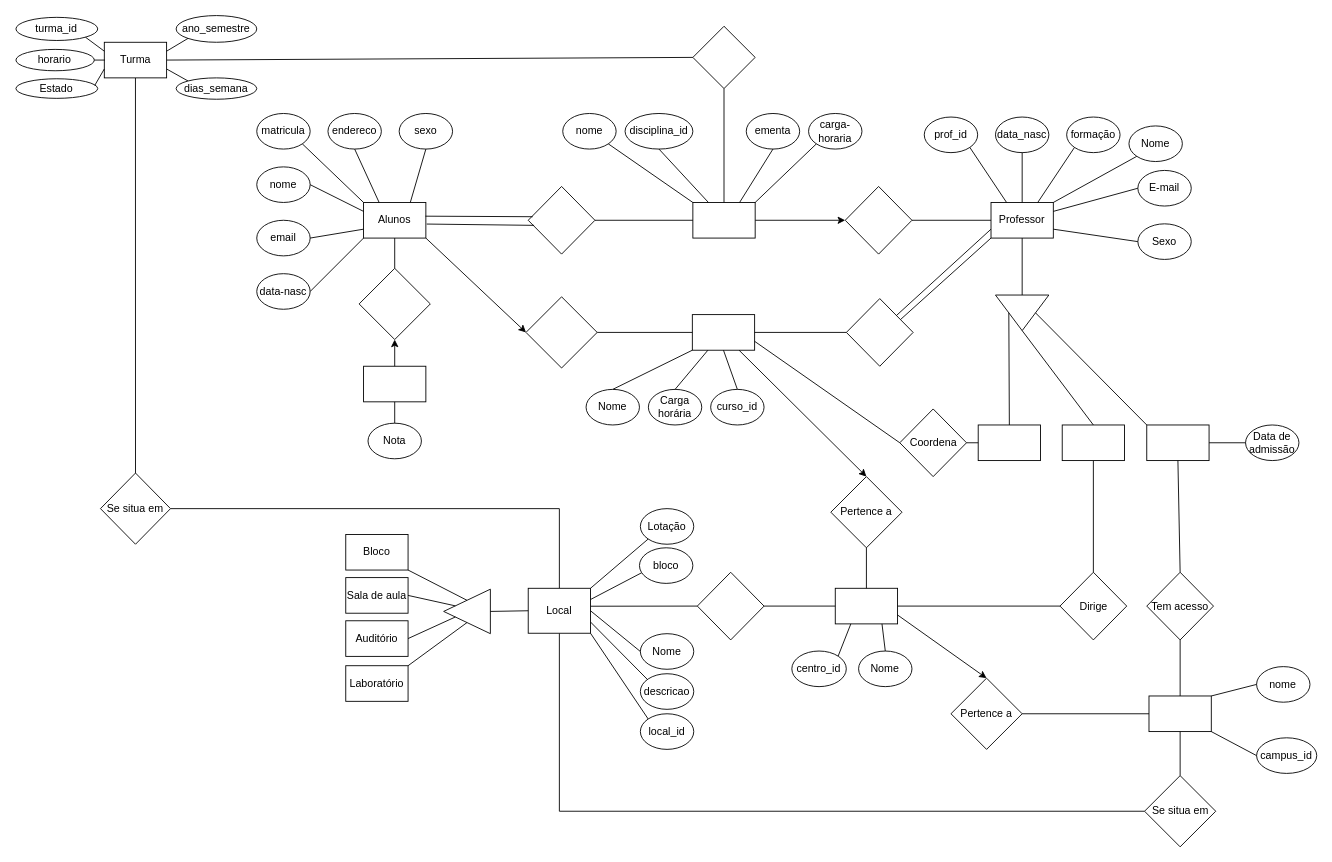
Some shapes in this 1332 by 862 pixel diagram are drawn without their labels. The box of each missing label's shape, as (x1, y1, x2, y2) in pixels:
Avaliações: (363, 365, 426, 402)
Campus: (1148, 695, 1211, 732)
Centro: (834, 587, 898, 624)
Coordenador: (977, 424, 1040, 461)
Cursam: (525, 296, 597, 368)
Curso: (691, 314, 755, 350)
Diretor: (1061, 424, 1125, 461)
Disciplina: (692, 202, 755, 238)
Ensina em: (846, 298, 913, 366)
Estudam: (527, 186, 595, 254)
Lecionam: (844, 186, 912, 254)
Pode ser: (995, 294, 1049, 331)
Possui: (696, 571, 764, 640)
Realiza: (358, 267, 430, 340)
Reitor: (1146, 424, 1209, 461)
Tem: (692, 25, 755, 89)
É um: (443, 588, 490, 634)
